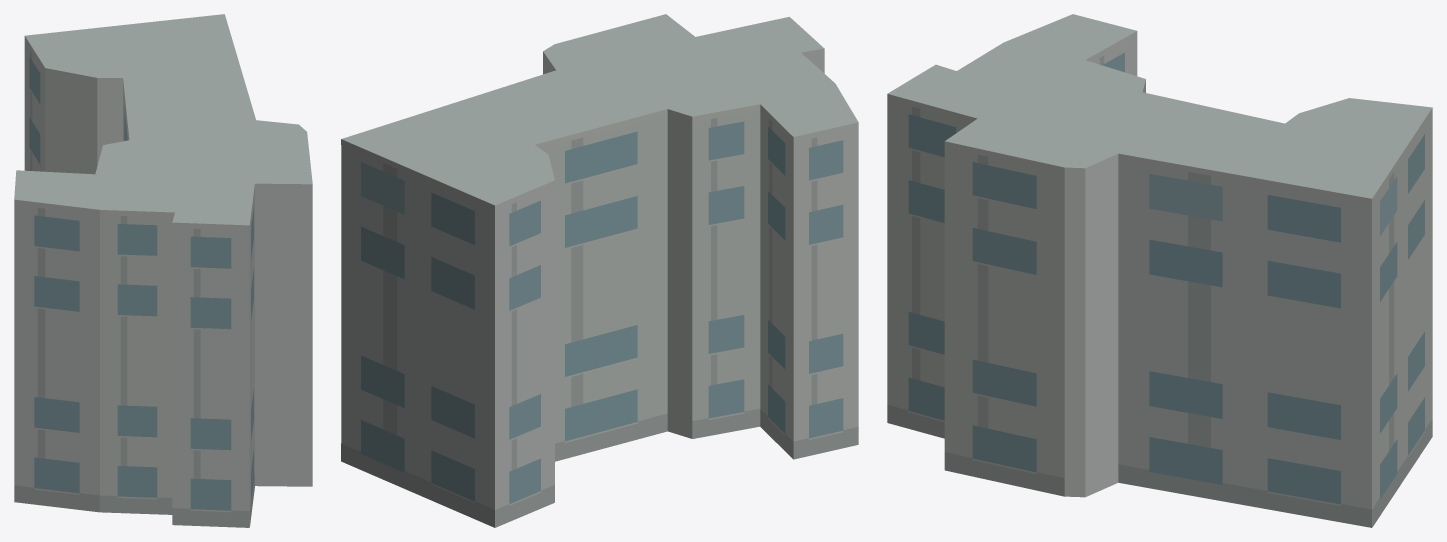
Rendered from survey-upis-33033339.glb.
3 views of the same model, side by side, from view 1: azimuth 30°, elevation 25°; view 2: azimuth 150°, elevation 25°; view 3: azimuth 270°, elevation 25° (orthographic). The views are drawn at different scales.
Parts seen in each view (by area): view 1: survey-upis-33033339.tmp; view 2: survey-upis-33033339.tmp; view 3: survey-upis-33033339.tmp.
Part boxes in pixels (x1,y1,x2,y2): survey-upis-33033339.tmp: [14, 14, 312, 527]; survey-upis-33033339.tmp: [341, 14, 858, 527]; survey-upis-33033339.tmp: [887, 14, 1432, 527].
Bounding box in the file's own units: 16.39 × 13.6 × 20.44.
